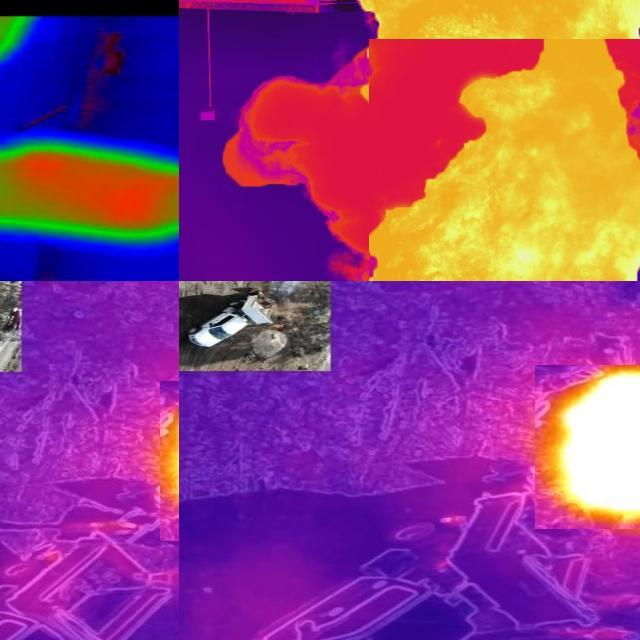fire: (353, 1, 640, 282), (536, 365, 640, 529), (154, 403, 184, 513)
